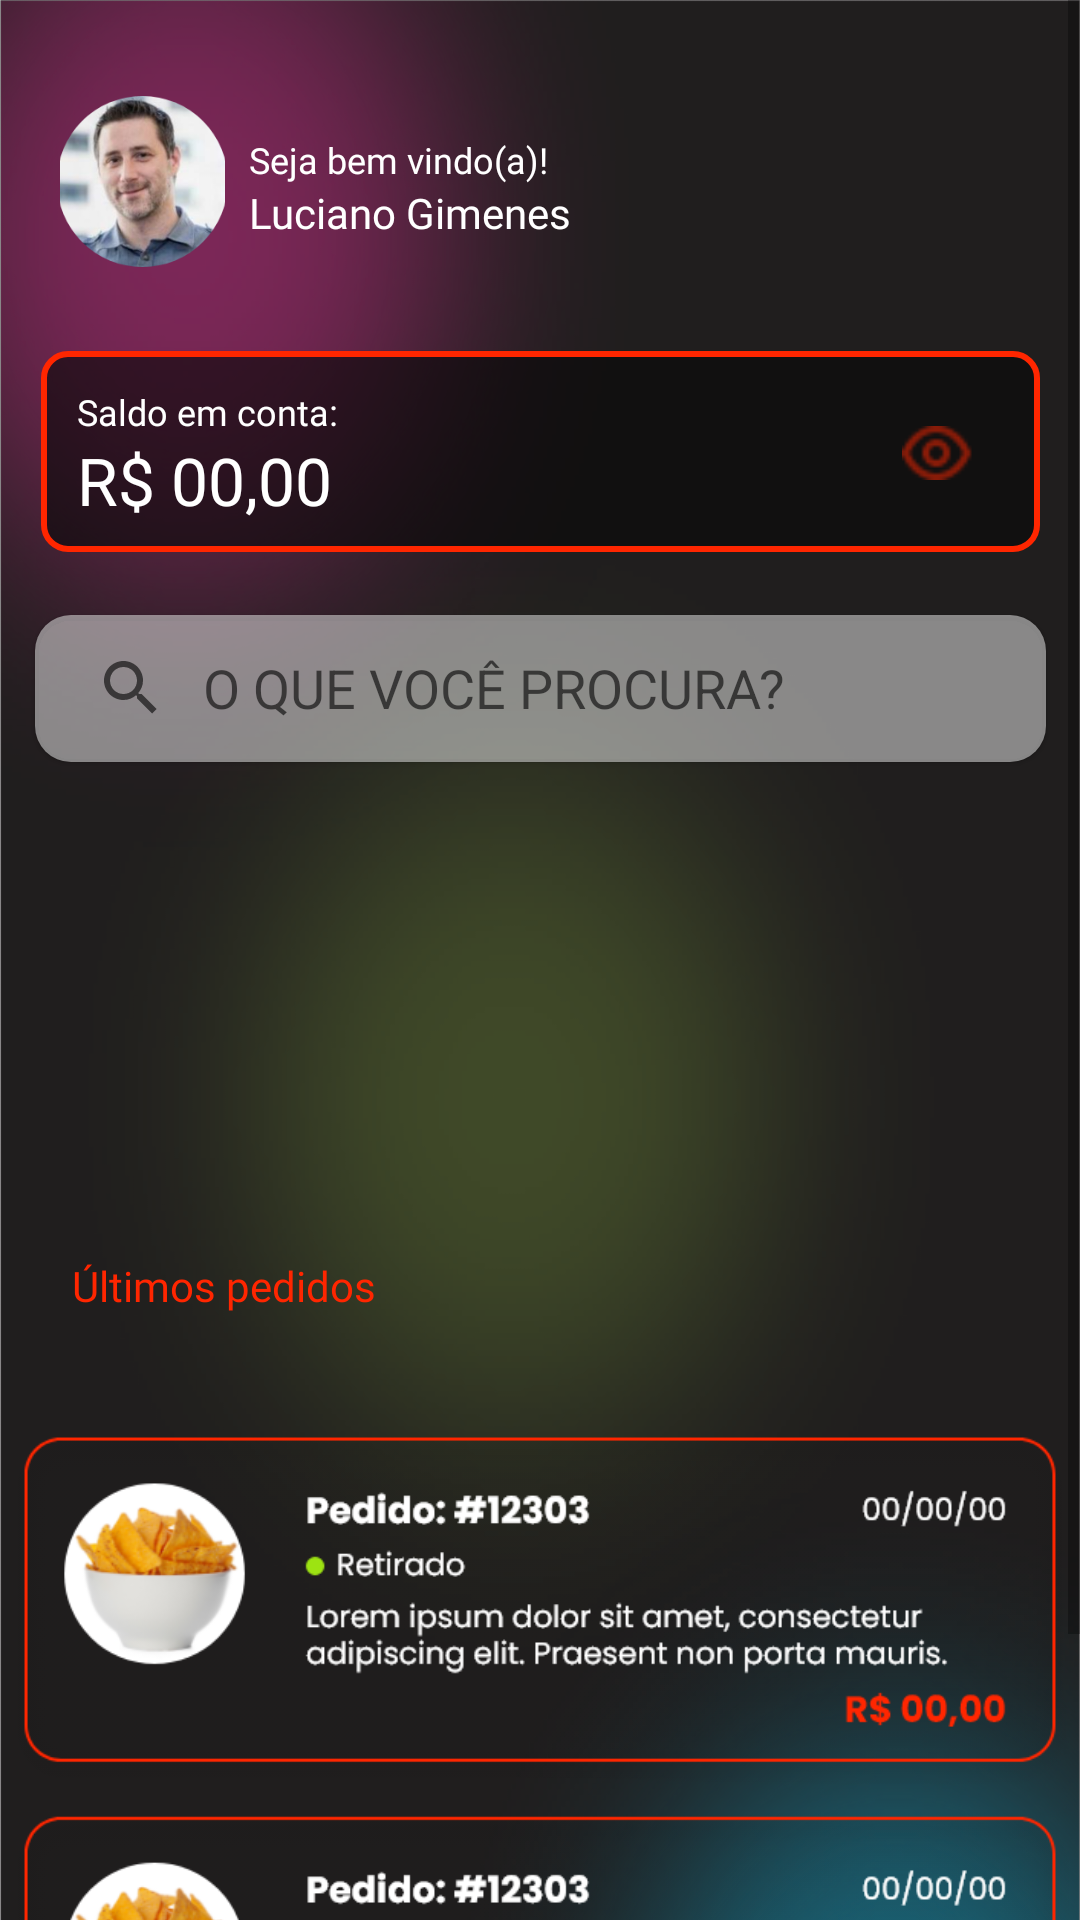

Where icons sit on this 1080×1920 app screen, as (x1, y1, x2, y2):
olho: (902, 426, 971, 480)
